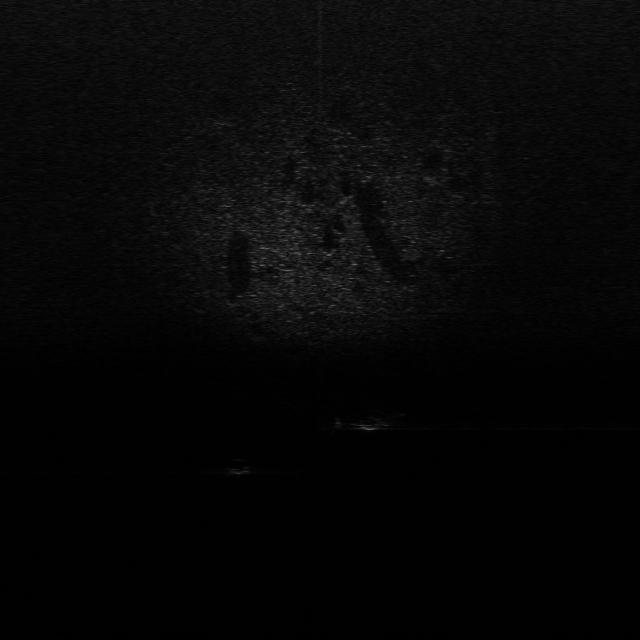ball: (226, 453, 253, 479)
human body: (330, 411, 410, 434)
